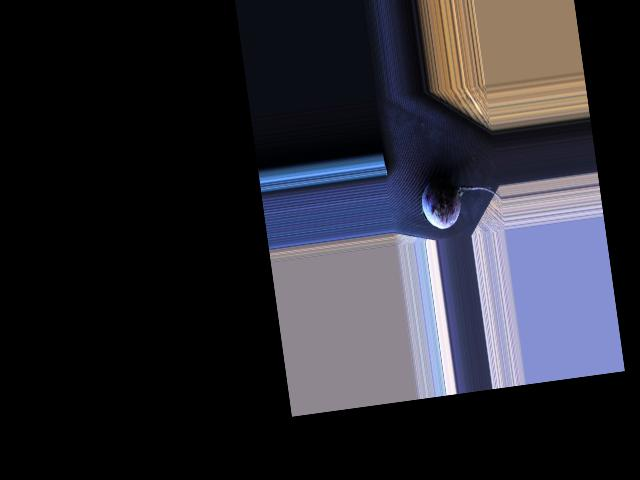beet: (418, 169, 503, 230)
